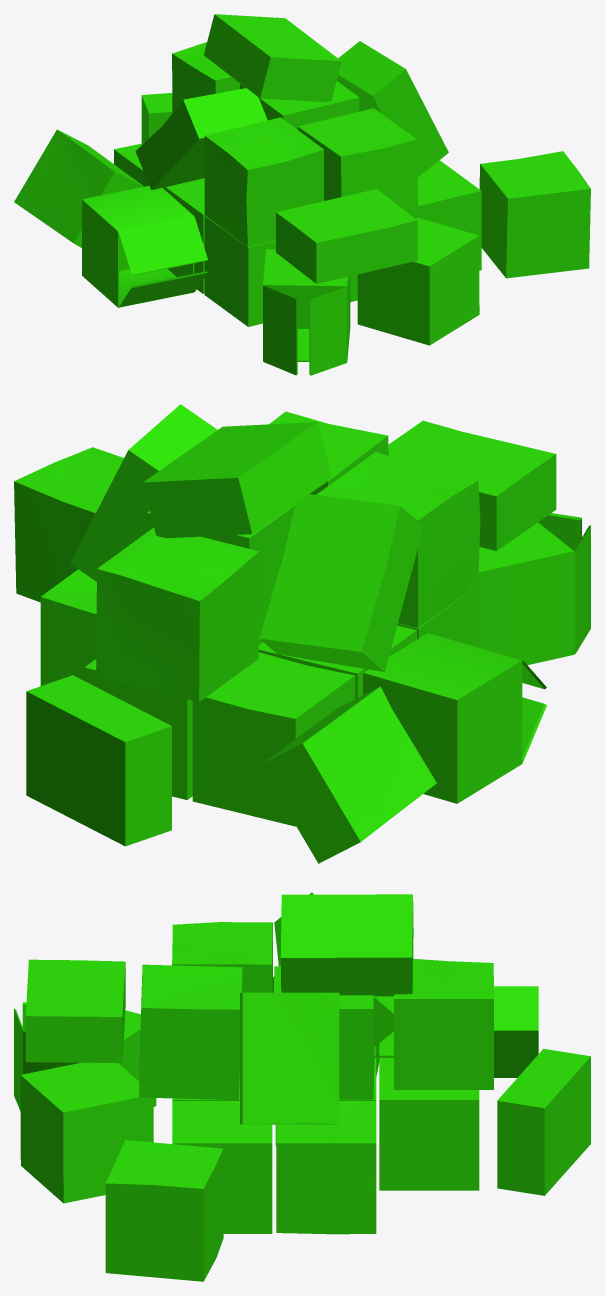
The model's file is Cardboard_Pile_06.fbx.
3 renders of one model, top to bottom at view 1: azimuth 30°, elevation 25°; view 2: azimuth 150°, elevation 25°; view 3: azimuth 270°, elevation 25°, orthographic. The views are drawn at different scales.
Visible parts, largest first — view 1: Cardboard_Pile_06; view 2: Cardboard_Pile_06; view 3: Cardboard_Pile_06.
Boxes of the visible parts, x1=… form: Cardboard_Pile_06: x1=14, y1=14, x2=590, y2=375; Cardboard_Pile_06: x1=14, y1=404, x2=590, y2=863; Cardboard_Pile_06: x1=14, y1=892, x2=590, y2=1281.
Bounding box in the file's own units: 209 × 106 × 222.
